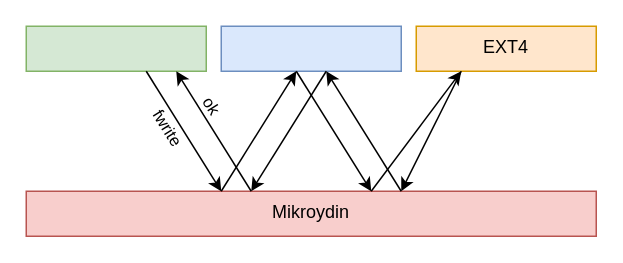
Image size: 623x263. Some labels were removed from this diagram. Each missing label, with the box of its shape:
Sovellus: (25, 25, 206, 71)
UNIX VFS: (220, 25, 401, 71)
